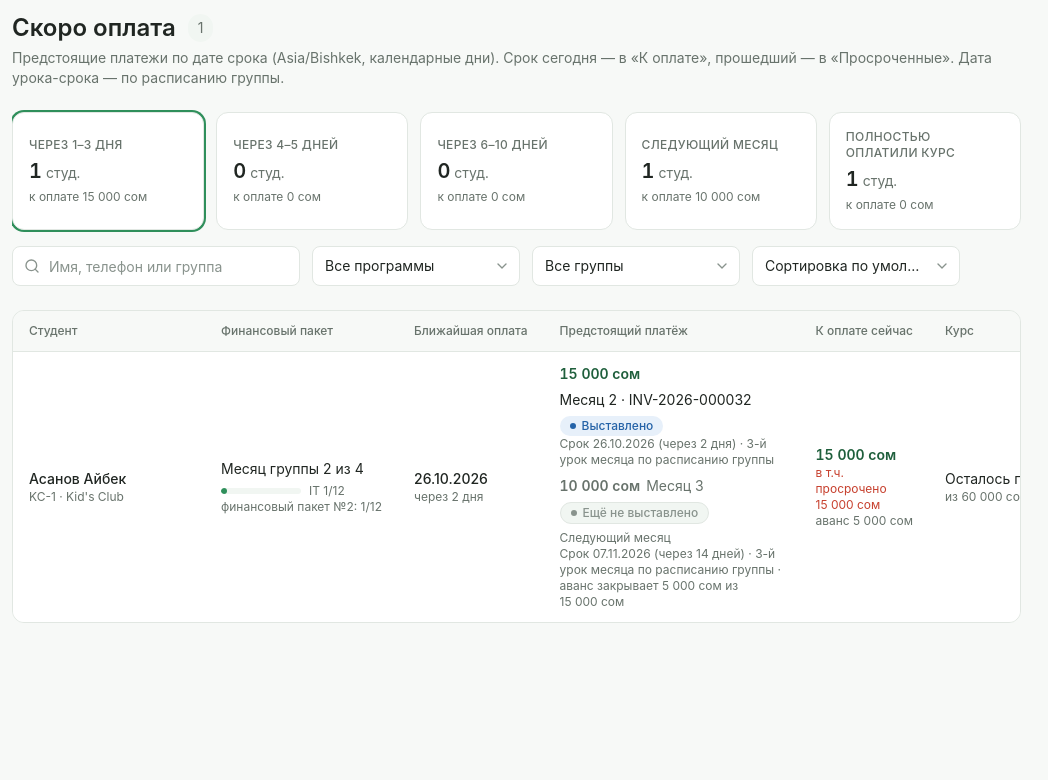
Test case: «Скоро оплата» — подразделы по дате срока › switches to «Полностью оплатили курс» with the paid status and no amount due
Expected: the text "Асанов Айбек" is shown, [29,470,126,487]
Click the tab "Полностью оплатили курс 1студ. к оплате 0 сом".
click(925, 171)  # box [829,112,1021,230]
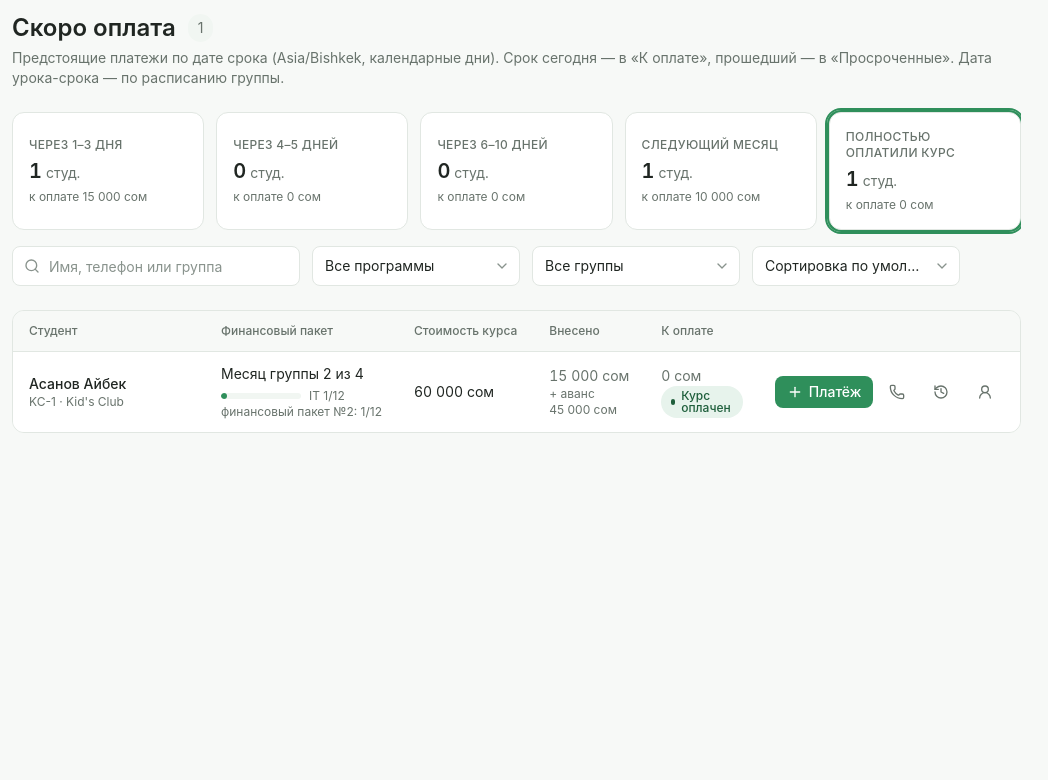
Expected: the text "Курс оплачен" shows "60 000 сом", [414,383,494,400]
Now the text "Курс оплачен" shows "+ аванс 45 000 сом", box [13,352,1021,432]
Now the text "Курс оплачен" no longer shows "Осталось по курсу", box [13,352,1021,432]
